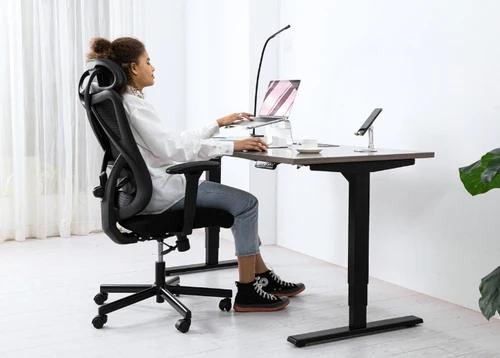Good Sitting Posture: (77, 31, 320, 238)
